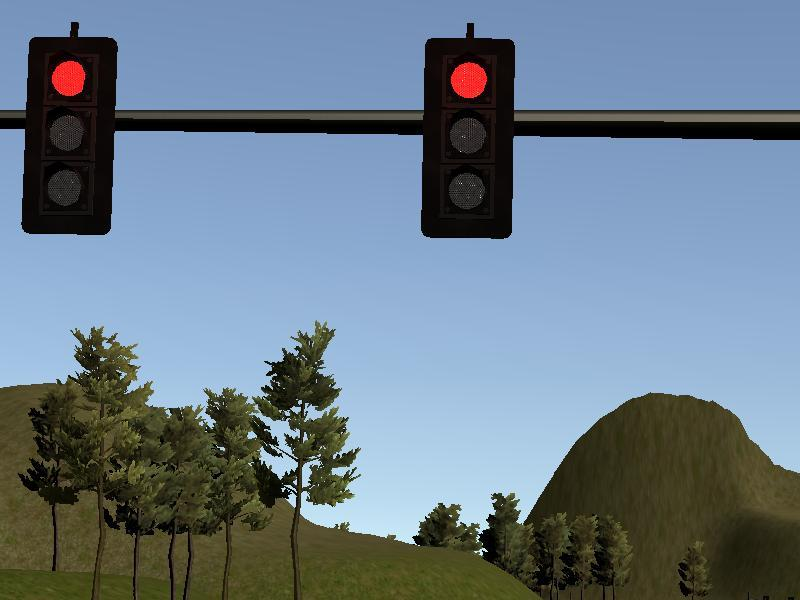Red: (29, 37, 110, 233), (426, 41, 508, 232)
